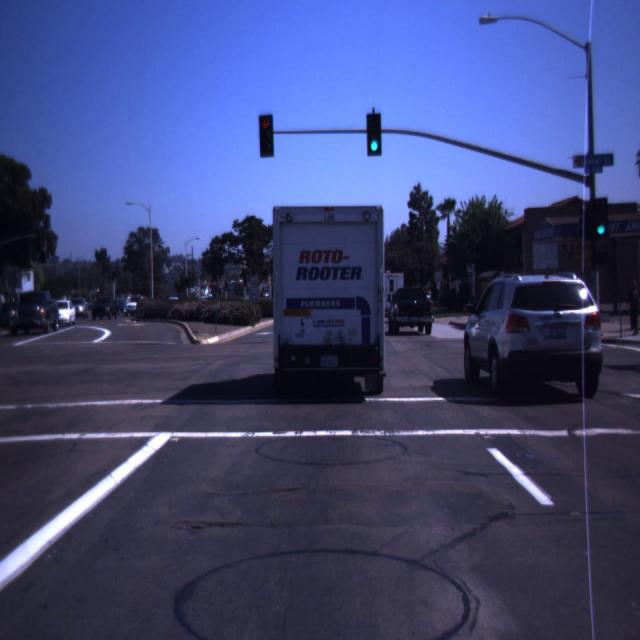kirmizi: (259, 116, 274, 158)
yesil: (366, 114, 382, 156), (592, 199, 607, 238)
